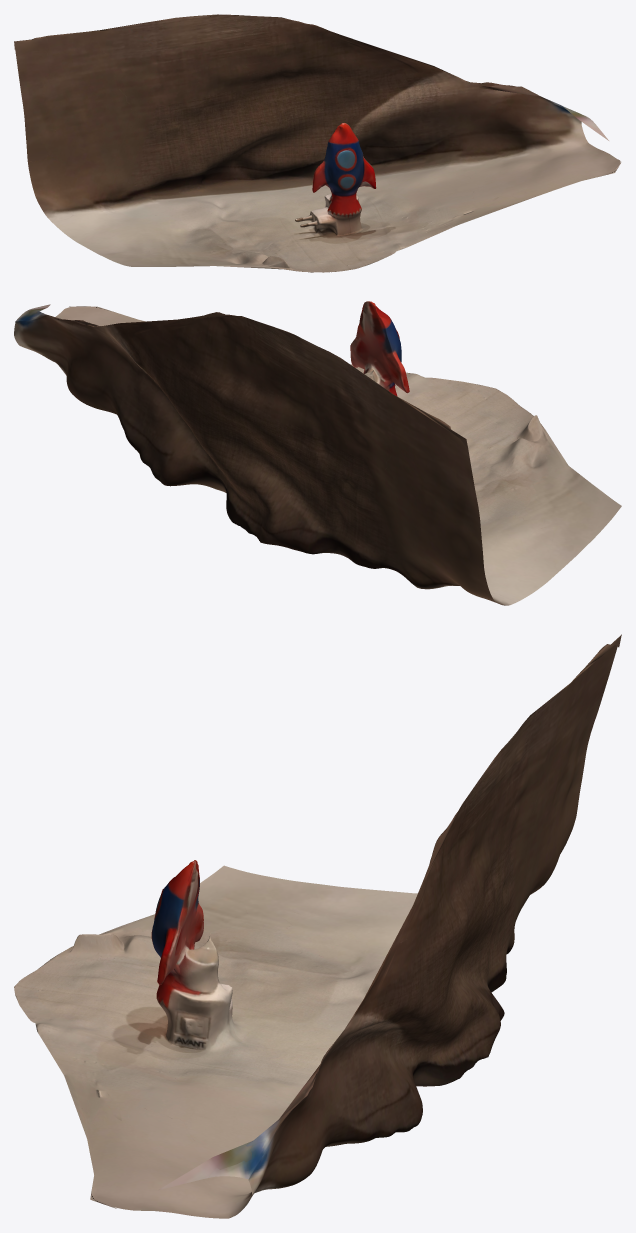
File: 3DModel.obj
3 renders of one model, top to bottom at view 1: azimuth 30°, elevation 25°; view 2: azimuth 150°, elevation 25°; view 3: azimuth 270°, elevation 25°, orthographic. The views are drawn at different scales.
Visible parts, largest first — view 1: 3DModel; view 2: 3DModel; view 3: 3DModel.
Boxes of the visible parts, bbox=[...] form: 3DModel: bbox=[14, 14, 621, 272]; 3DModel: bbox=[14, 301, 621, 605]; 3DModel: bbox=[14, 634, 621, 1218].
Size of the model in its own units: 2.49 by 0.8868 by 1.71.
Materials: 1 (1 with a texture image).
